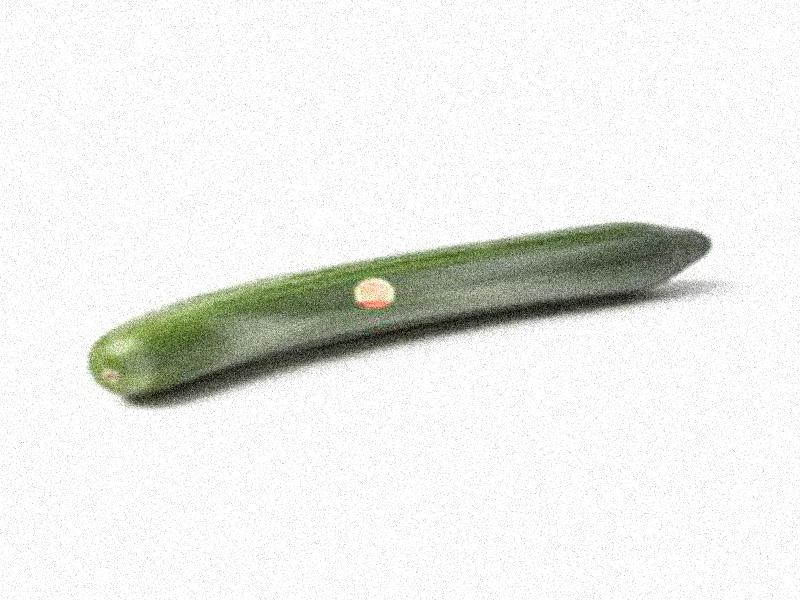Cucumber: (84, 222, 711, 396)
